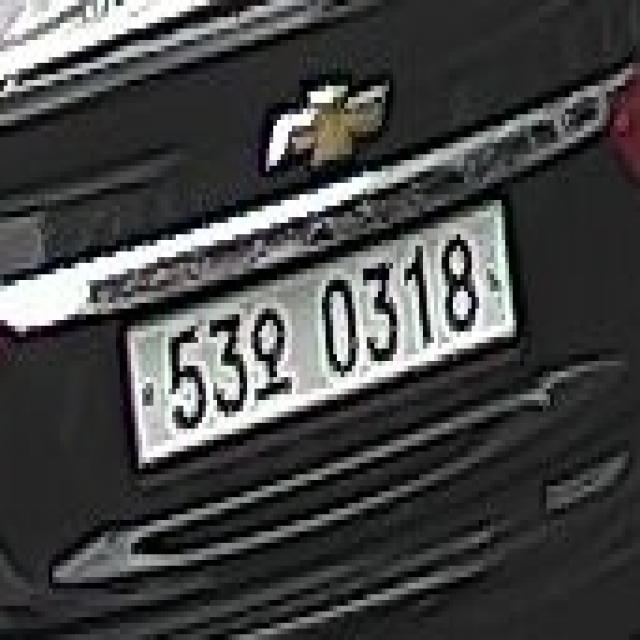0: (322, 257, 367, 412)
1: (404, 217, 442, 366)
3: (210, 286, 250, 434), (363, 240, 401, 394)
5: (161, 314, 210, 446)
8: (434, 212, 483, 372)
license_plate: (124, 177, 520, 486)
o: (243, 297, 303, 400)
